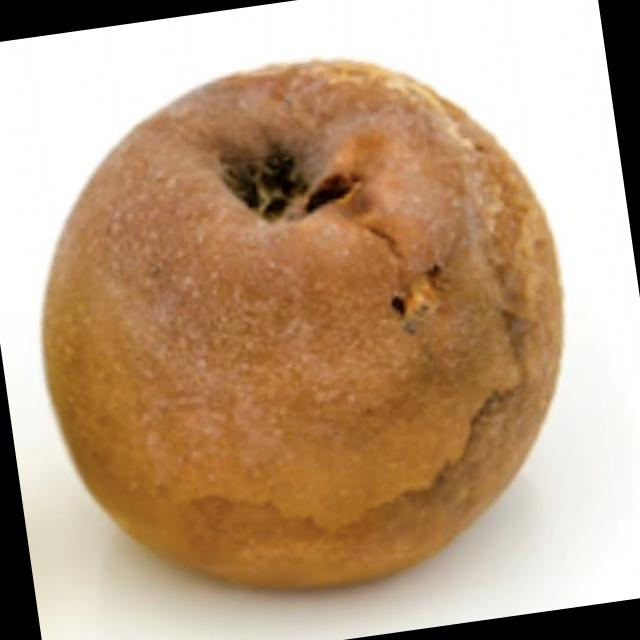rotten_apple: (6, 28, 600, 628)
